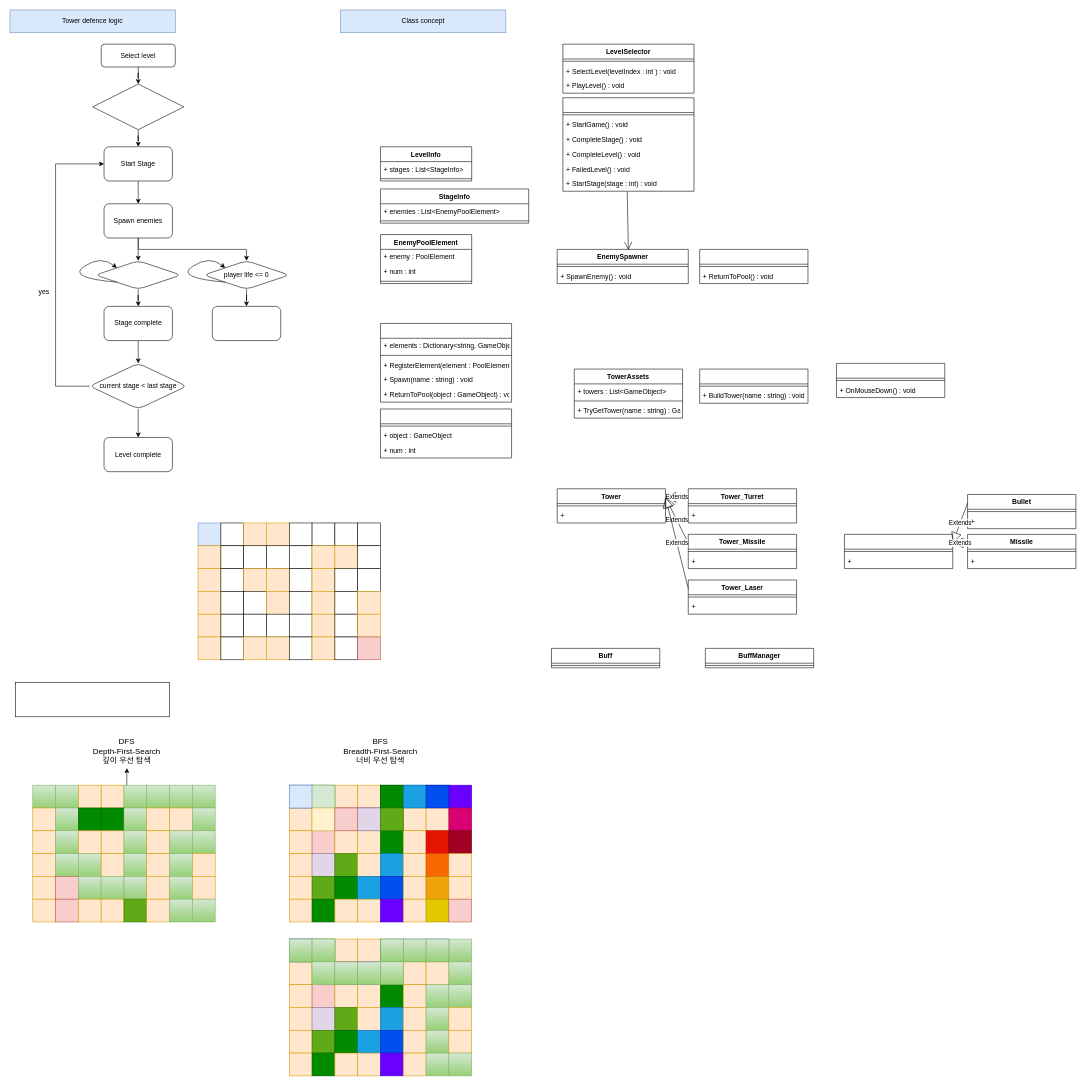
The diagram is 1086 pixels wide and 1086 high, and some of its shapes have lost their labels. The box of each missing label's shape, as (x1, y1, x2, y2) in pixels:
Enemy: (699, 249, 808, 284)
GamePlay: (562, 97, 694, 191)
Is enemy exist ?: (95, 260, 181, 289)
Level failed: (212, 306, 281, 341)
ObjectPool: (380, 323, 512, 402)
PoolElement: (380, 408, 512, 458)
Projectile: (844, 534, 953, 569)
Start Button: (92, 84, 184, 130)
TowerBuilder: (699, 369, 808, 403)
TowerInventoryHandler: (836, 363, 945, 398)
최단 거리 탐색 알고리즘: (15, 682, 170, 717)
